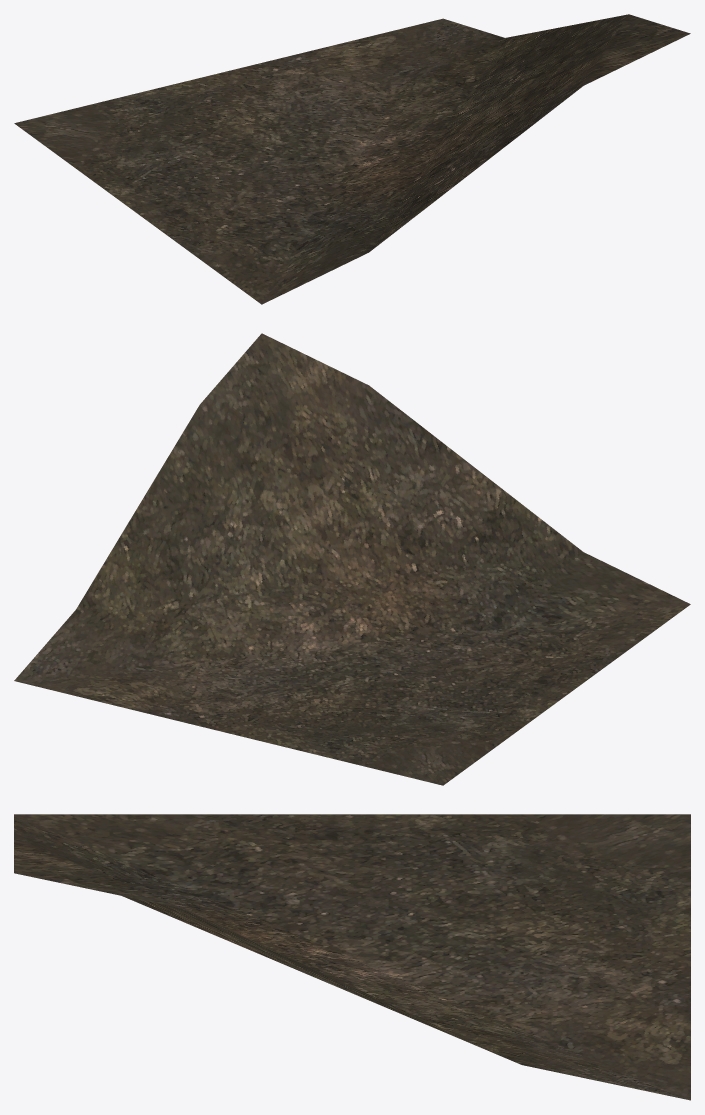
File: blend_weeds01.fbx
3 renders of one model, top to bottom at view 1: azimuth 30°, elevation 25°; view 2: azimuth 150°, elevation 25°; view 3: azimuth 270°, elevation 25°, orthographic. The views are drawn at different scales.
Visible parts, largest first — view 1: New_terrain/weeds_shadow; view 2: New_terrain/weeds_shadow; view 3: New_terrain/weeds_shadow.
Part boxes in pixels (<box>): New_terrain/weeds_shadow: <box>14,14,690,304</box>; New_terrain/weeds_shadow: <box>14,333,690,785</box>; New_terrain/weeds_shadow: <box>14,814,690,1100</box>.
Bounding box in the file's own units: 10 × 3.7 × 10.
